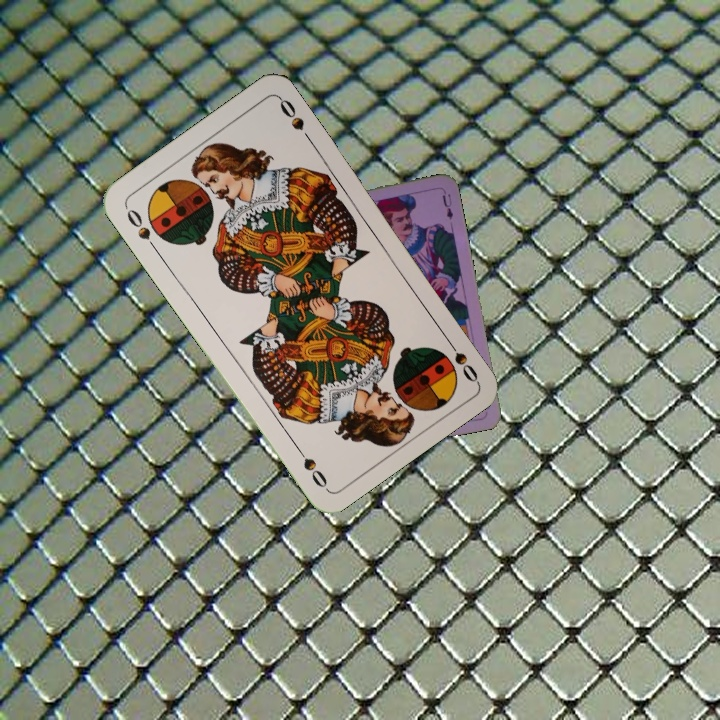SO: (440, 332, 481, 385), (121, 203, 161, 255)
